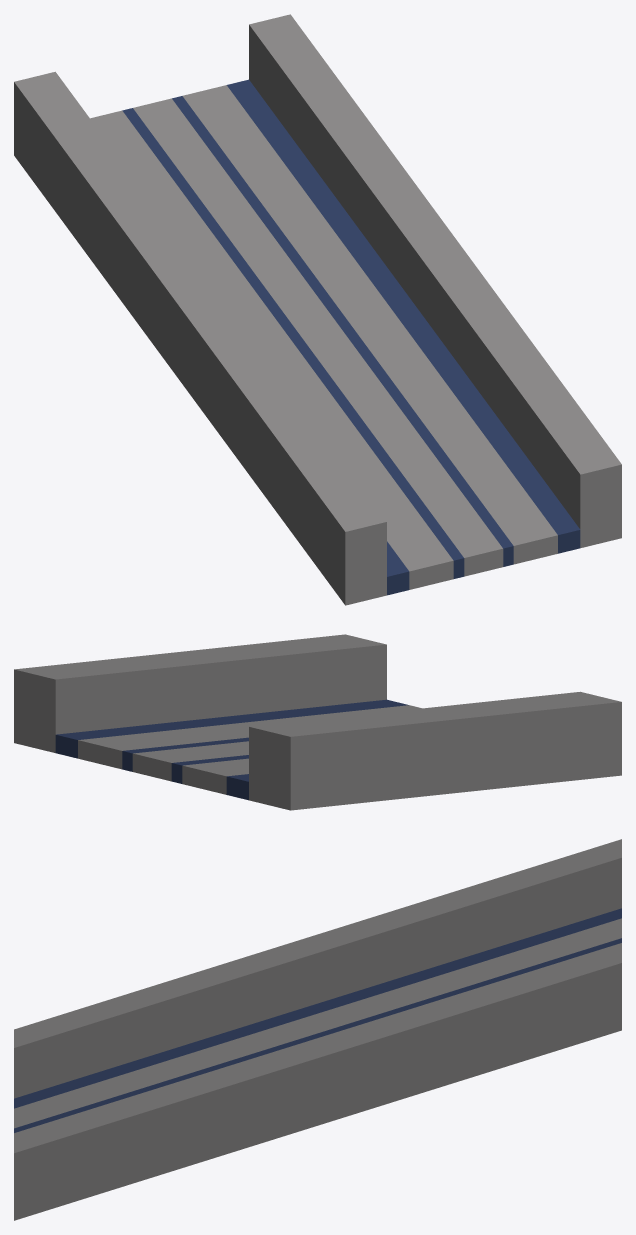
The model's file is toboggan.fbx.
3 renders of one model, top to bottom at view 1: azimuth 30°, elevation 25°; view 2: azimuth 150°, elevation 25°; view 3: azimuth 270°, elevation 25°, orthographic. The views are drawn at different scales.
Visible parts, largest first — view 1: Toboggan; view 2: Toboggan; view 3: Toboggan.
Part boxes in pixels (left/top/right/bottom): Toboggan: left=14, top=14, right=621, bottom=605; Toboggan: left=14, top=634, right=621, bottom=810; Toboggan: left=14, top=839, right=621, bottom=1220.
Size of the model in its own units: 294 by 286 by 610.
